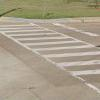Crosswalk: (4, 19, 93, 85)
